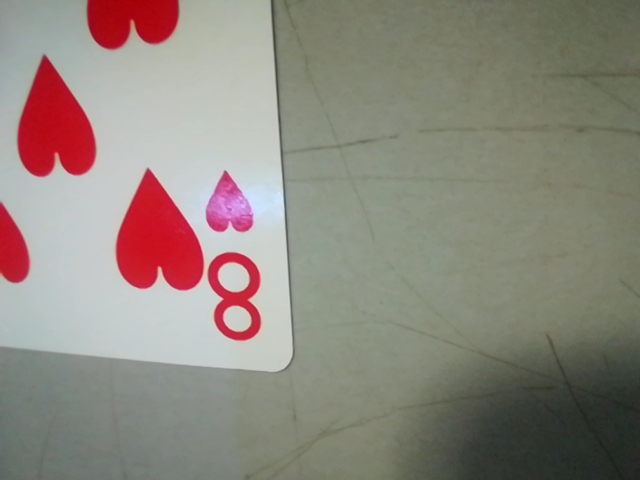hx 8: (197, 160, 277, 354)
